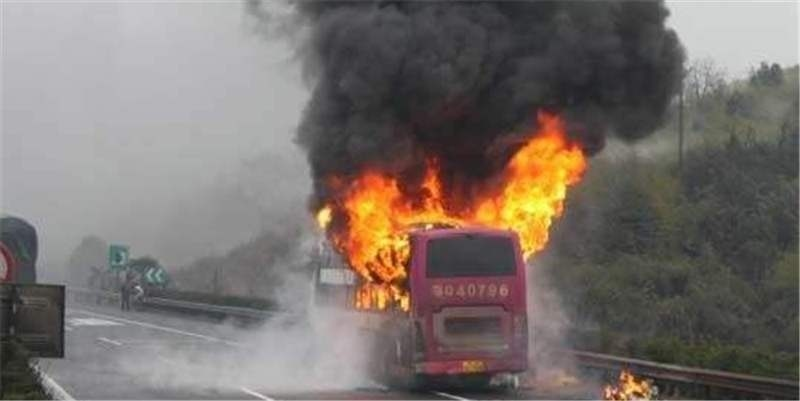fire: (320, 116, 590, 299), (601, 365, 654, 399)
